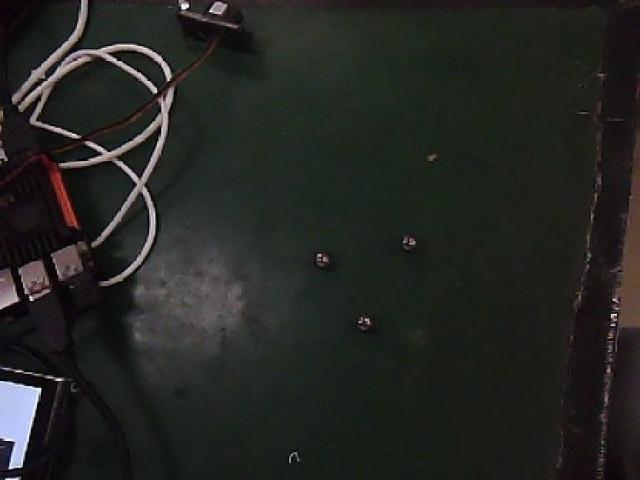steel-ball: (340, 297, 385, 343), (306, 237, 339, 283), (392, 217, 423, 263)
